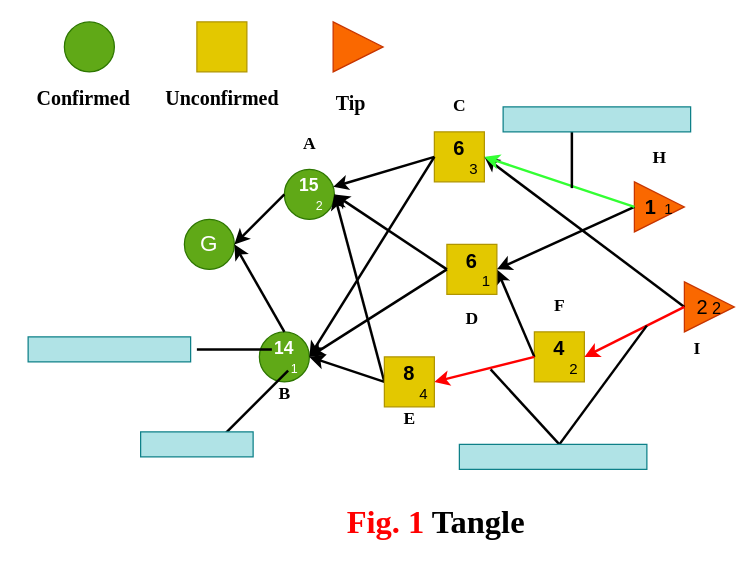
This 756x563 diagram has some shape labels left out. Each missing label, with the centre of its shape:
"Cumulative Weight" belongs at pixel 109 349.
"H directly Approves C" belongs at pixel 596 119.
"I Indirectly approves E" belongs at pixel 552 456.
"Own Weight" belongs at pixel 196 444.
